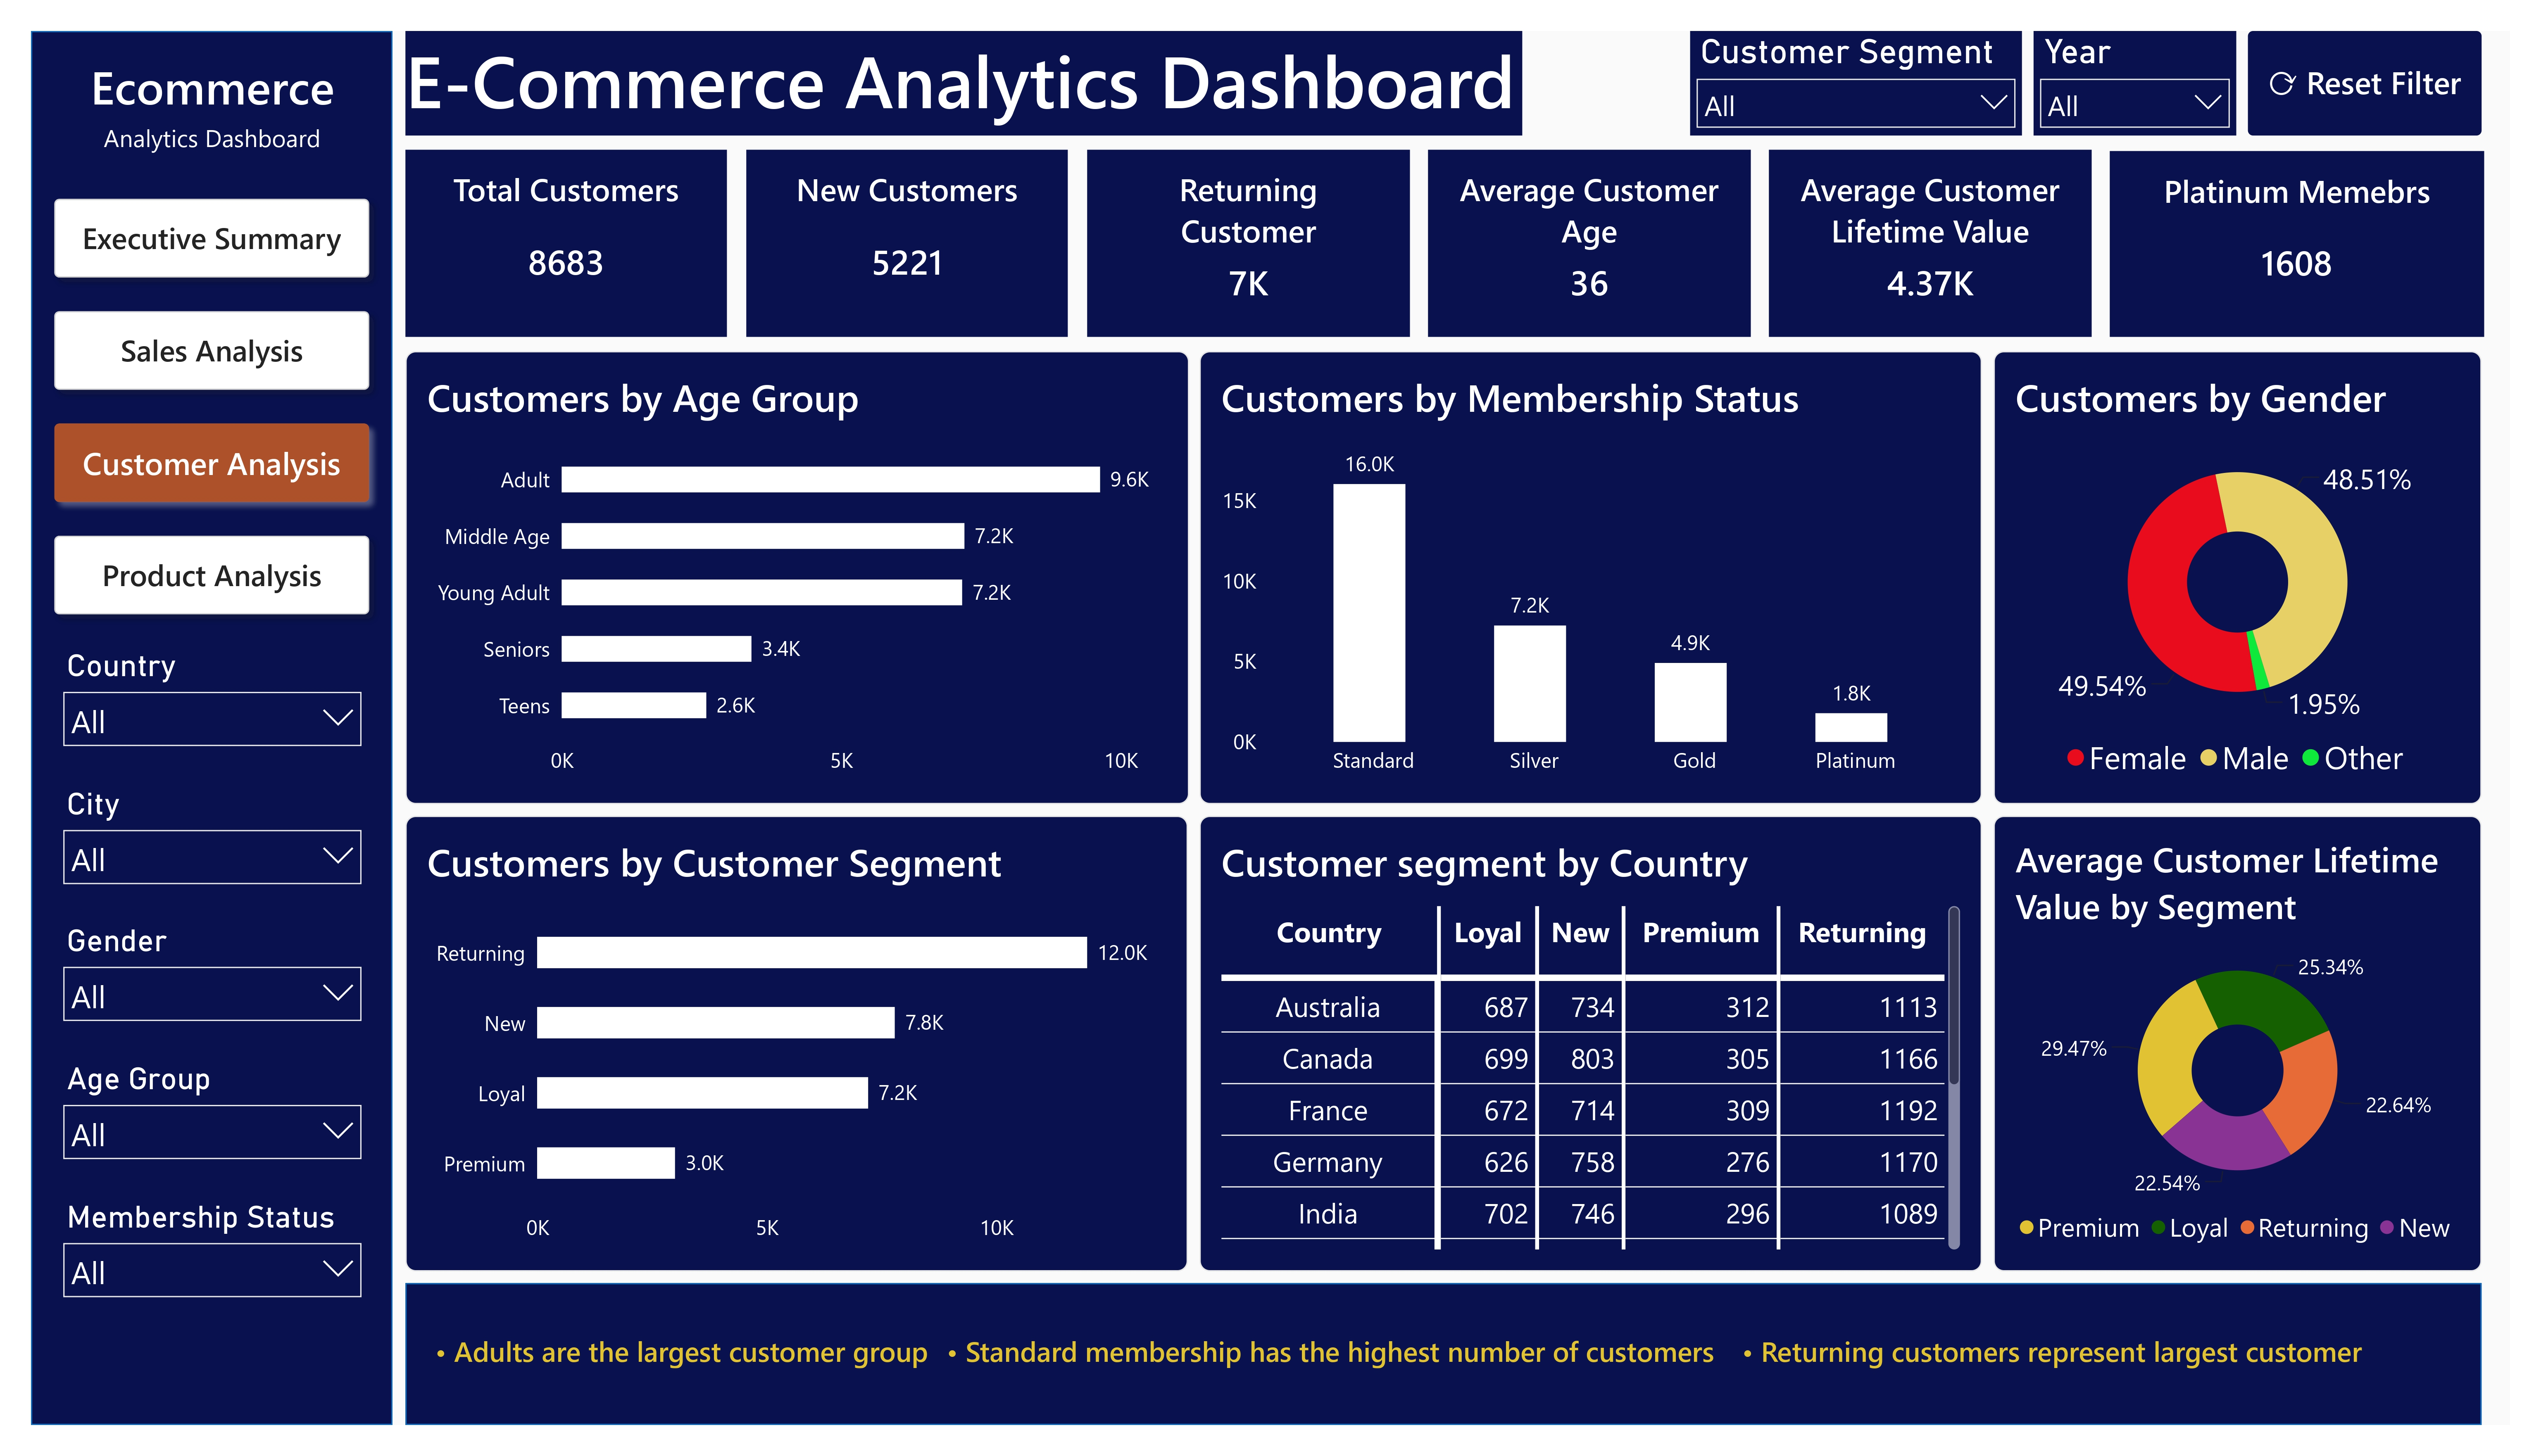

The page's visual inventory and layout, read from the dashboard file:
{"tool":"powerbi","page":{"name":"Customer Analysis","canvas":[1920,1080],"ordinal":2},"visuals":[{"type":"shape","box":[0,0,279.9,1080],"z":0},{"type":"textbox","title":"Ecommerce","box":[19.9,18.1,240.7,86.9],"z":1000},{"type":"pageNavigator","box":[9,121.2,262.4,340.2],"z":2000},{"type":"textbox","title":"E-Commerce Analytics Dashboard","box":[289.5,0,865,81.4],"z":3000},{"type":"slicer","fields":{"Values":["Ecommerce_DB.Country"]},"box":[19.9,477.8,240.7,92.3],"z":4000},{"type":"slicer","fields":{"Values":["Ecommerce_DB.City"]},"box":[19.9,584.5,240.7,92.3],"z":5000},{"type":"slicer","fields":{"Values":["Ecommerce_DB.Customer_Gender"]},"box":[19.9,691.3,240.7,92.3],"z":6000},{"type":"slicer","fields":{"Values":["Ecommerce_DB.Age_Group"]},"box":[19.9,798.1,240.7,92.3],"z":7000},{"type":"slicer","fields":{"Values":["Ecommerce_DB.Membership_Status"]},"box":[19.9,904.8,240.7,92.3],"z":8000},{"type":"shape","title":"Executive Insights","box":[289.5,970,1608.8,110.4],"z":9000},{"type":"card","title":"Total Customers","fields":{"Values":["Table.Total_Customers"]},"box":[289.5,92.3,249.7,144.8],"z":10000},{"type":"card","title":"New Customers","fields":{"Values":["Table.New_Customers"]},"box":[553.8,92.3,249.7,144.8],"z":11000},{"type":"card","title":"Returning Customer","fields":{"Values":["Table.returning_customer"]},"box":[818,92.3,249.7,144.8],"z":12000},{"type":"card","title":"Average Customer Age","fields":{"Values":["Table.Average_Customer_Age"]},"box":[1082.2,92.3,249.7,144.8],"z":13000},{"type":"card","title":"Average Customer Lifetime Value","fields":{"Values":["Table.Average_customer_lifetime_value"]},"box":[1346.4,92.3,249.7,144.8],"z":14000},{"type":"card","title":"Platinum Memebrs","fields":{"Values":["Table.Platinum_members"]},"box":[1609.6,92.6,290.2,144.1],"z":15000},{"type":"barChart","title":"Customers by Age Group","fields":{"Category":["Ecommerce_DB.Age_Group"],"Y":["CountNonNull(Ecommerce_DB.Customer_ID)"]},"box":[289.5,247.9,607,351.1],"z":16000},{"type":"clusteredColumnChart","title":"Customers by Membership Status","fields":{"Category":["Ecommerce_DB.Membership_Status"],"Y":["CountNonNull(Ecommerce_DB.Customer_ID)"]},"box":[904.8,247.9,606.2,351.1],"z":17000},{"type":"donutChart","title":"Customers by Gender","fields":{"Category":["Ecommerce_DB.Customer_Gender"],"Y":["CountNonNull(Ecommerce_DB.Customer_ID)"]},"box":[1520.1,247.9,378.2,351.1],"z":18000},{"type":"barChart","title":"Customers by Customer Segment","fields":{"Category":["Ecommerce_DB.Customer_Segment"],"Y":["CountNonNull(Ecommerce_DB.Customer_ID)"]},"box":[289.5,608,606.2,352.9],"z":19000},{"type":"pieChart","title":"Average Customer Lifetime Value by Segment","fields":{"Category":["Ecommerce_DB.Customer_Segment"],"Y":["Avg(Ecommerce_DB.Customer_Lifetime_Value)"]},"box":[1520,608,378,353],"z":20000},{"type":"slicer","fields":{"Values":["Ecommerce_DB.Customer_Segment"]},"box":[1284.9,0,257,81.4],"z":21000},{"type":"slicer","fields":{"Values":["Ecommerce_DB.Year"]},"box":[1550.9,0,157.4,81.4],"z":22000},{"type":"pivotTable","title":"Customer segment by Country","fields":{"Columns":["Ecommerce_DB.Customer_Segment"],"Rows":["Ecommerce_DB.Country"],"Values":["Count(Ecommerce_DB.Customer_ID)"]},"box":[904.8,608,606,353],"z":23000},{"type":"textbox","title":"• Adults are the largest customer group","box":[313.1,1008,383.6,36.2],"z":24000},{"type":"textbox","title":"• Standard membership has the highest number of customers","box":[709.4,1008,599,36.2],"z":25000},{"type":"textbox","title":"• Returning customers represent largest customer segment","box":[1324.7,1008,492.2,36.2],"z":26000},{"type":"actionButton","box":[1717.4,0,181,81.4],"z":27000}]}

Visuals, with their boxes on the page's 1920x1080 design canvas (x1, y1, x2, y2). These are canvas units, not pixel positions in the 2541x1456 screenshot, which may show the page scaled, cropped or inside an application window:
shape: [0,0,280,1080]
"Ecommerce" textbox: [20,18,261,105]
pageNavigator: [9,121,271,461]
"E-Commerce Analytics Dashboard" textbox: [290,0,1154,81]
slicer - Ecommerce_DB.Country: [20,478,261,570]
slicer - Ecommerce_DB.City: [20,584,261,677]
slicer - Ecommerce_DB.Customer_Gender: [20,691,261,784]
slicer - Ecommerce_DB.Age_Group: [20,798,261,890]
slicer - Ecommerce_DB.Membership_Status: [20,905,261,997]
"Executive Insights" shape: [290,970,1898,1080]
"Total Customers" card: [290,92,539,237]
"New Customers" card: [554,92,804,237]
"Returning Customer" card: [818,92,1068,237]
"Average Customer Age" card: [1082,92,1332,237]
"Average Customer Lifetime Value" card: [1346,92,1596,237]
"Platinum Memebrs" card: [1610,93,1900,237]
"Customers by Age Group" barChart: [290,248,896,599]
"Customers by Membership Status" clusteredColumnChart: [905,248,1511,599]
"Customers by Gender" donutChart: [1520,248,1898,599]
"Customers by Customer Segment" barChart: [290,608,896,961]
"Average Customer Lifetime Value by Segment" pieChart: [1520,608,1898,961]
slicer - Ecommerce_DB.Customer_Segment: [1285,0,1542,81]
slicer - Ecommerce_DB.Year: [1551,0,1708,81]
"Customer segment by Country" pivotTable: [905,608,1511,961]
"• Adults are the largest customer group" textbox: [313,1008,697,1044]
"• Standard membership has the highest number of customers" textbox: [709,1008,1308,1044]
"• Returning customers represent largest customer segment" textbox: [1325,1008,1817,1044]
actionButton: [1717,0,1898,81]
